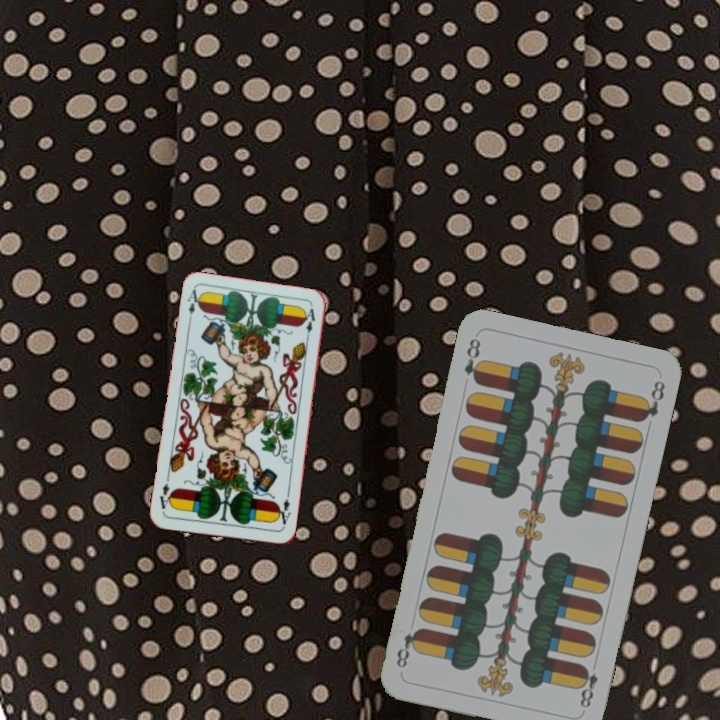E8: (460, 334, 486, 386), (574, 662, 601, 711)
EA: (183, 286, 204, 326), (273, 490, 293, 530)
